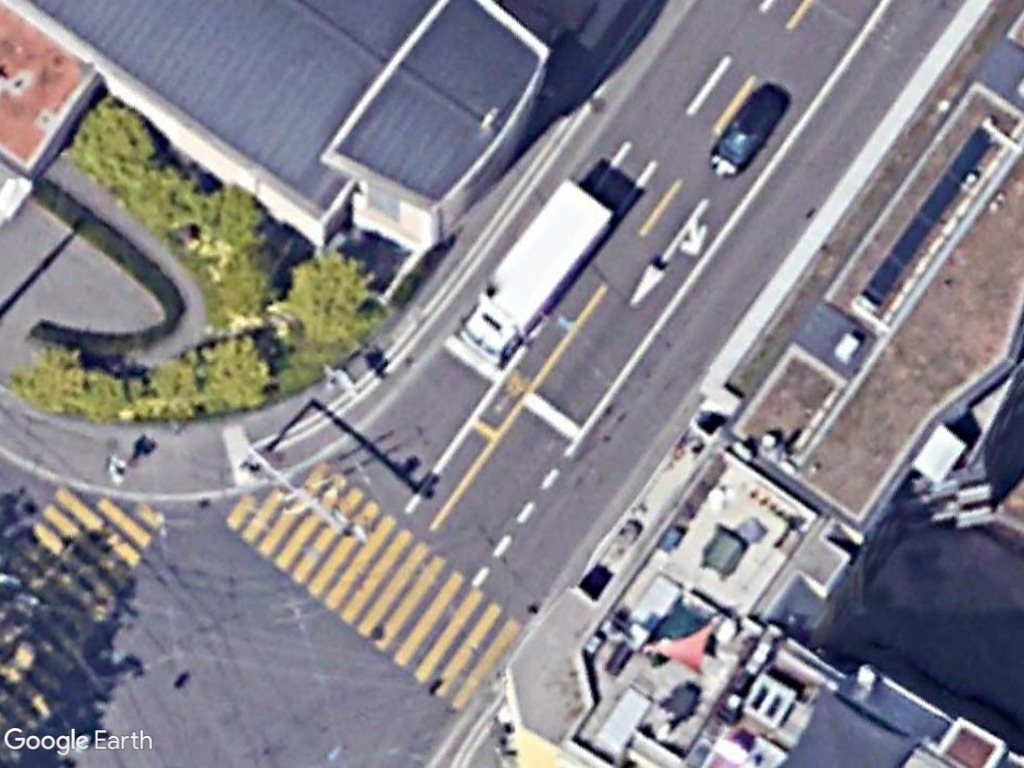car: (704, 83, 785, 178)
truck: (453, 175, 622, 364)
